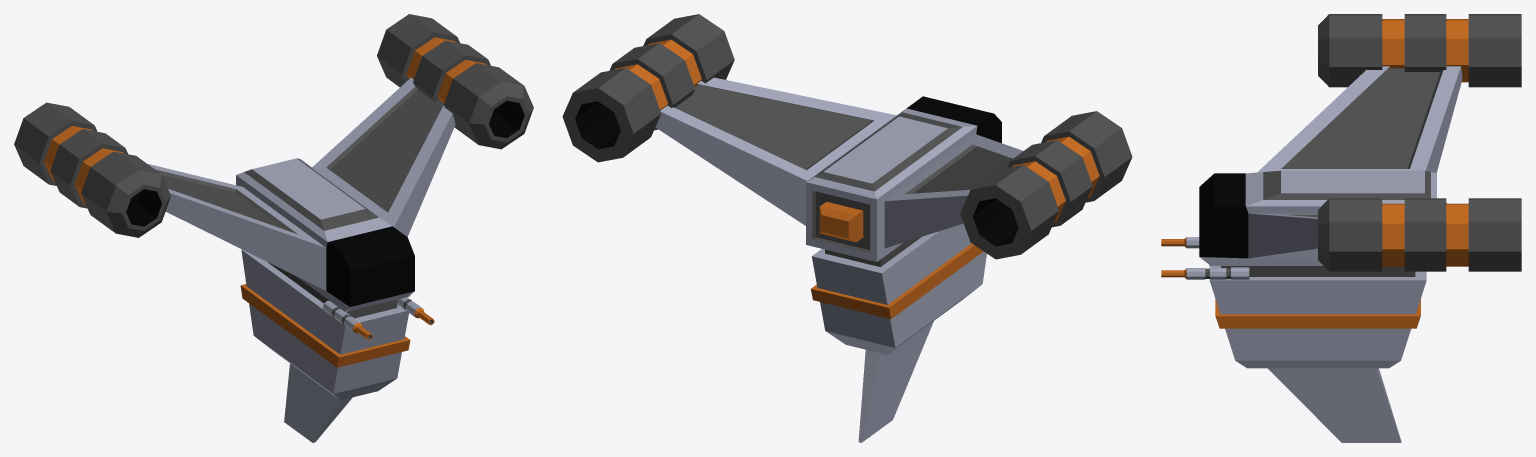
The model's file is Spaceship11_4.fbx.
The picture shows the model from 3 angles, left to right: view 1: azimuth 30°, elevation 25°; view 2: azimuth 150°, elevation 25°; view 3: azimuth 270°, elevation 25°; orthographic projection. The views are drawn at different scales.
Parts seen in each view (by area): view 1: Spaceship11_4; view 2: Spaceship11_4; view 3: Spaceship11_4.
Boxes of the visible parts, x1,y1,x2,y2 form: Spaceship11_4: (14, 14, 533, 442); Spaceship11_4: (562, 14, 1132, 442); Spaceship11_4: (1161, 14, 1521, 442).
Size of the model in its own units: 1319 by 947 by 924.
